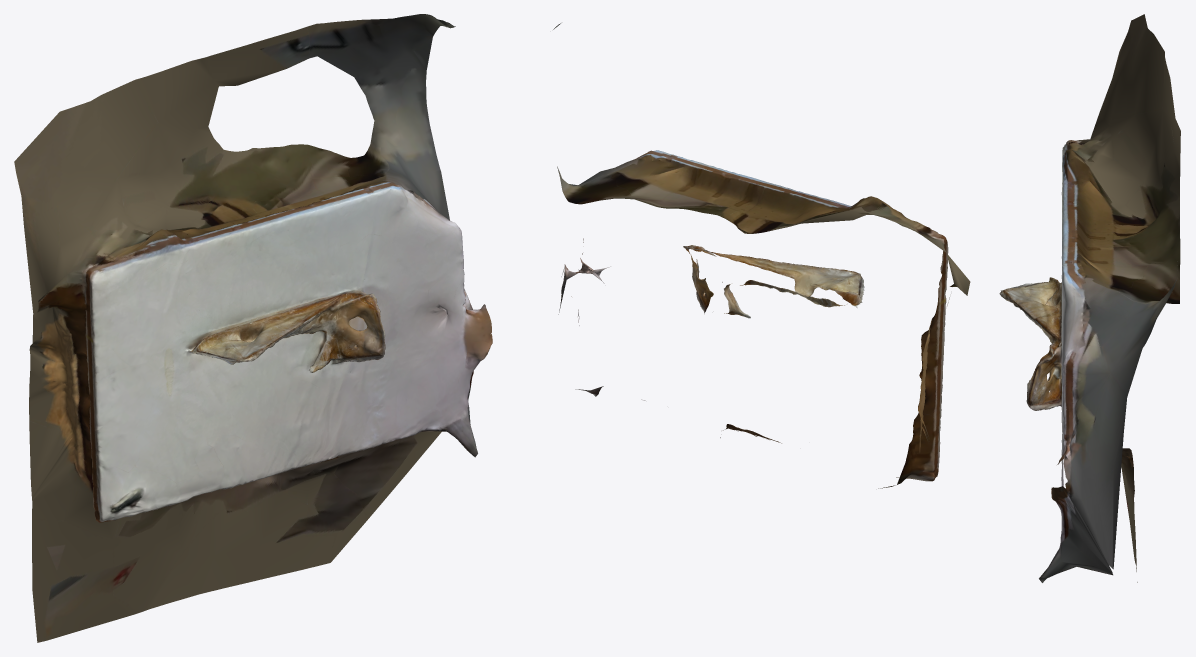
3 views of the same model, side by side, from view 1: azimuth 30°, elevation 25°; view 2: azimuth 150°, elevation 25°; view 3: azimuth 270°, elevation 25° (orthographic). The views are drawn at different scales.
Parts seen in each view (by area): view 1: Node; view 2: Node; view 3: Node.
Part boxes in pixels (<box>): Node: <box>14,14,492,642</box>; Node: <box>553,23,970,488</box>; Node: <box>999,14,1180,582</box>.
Size of the model in its own units: 0.7766 by 0.902 by 0.2796.
Materials: 1 (1 with a texture image).
